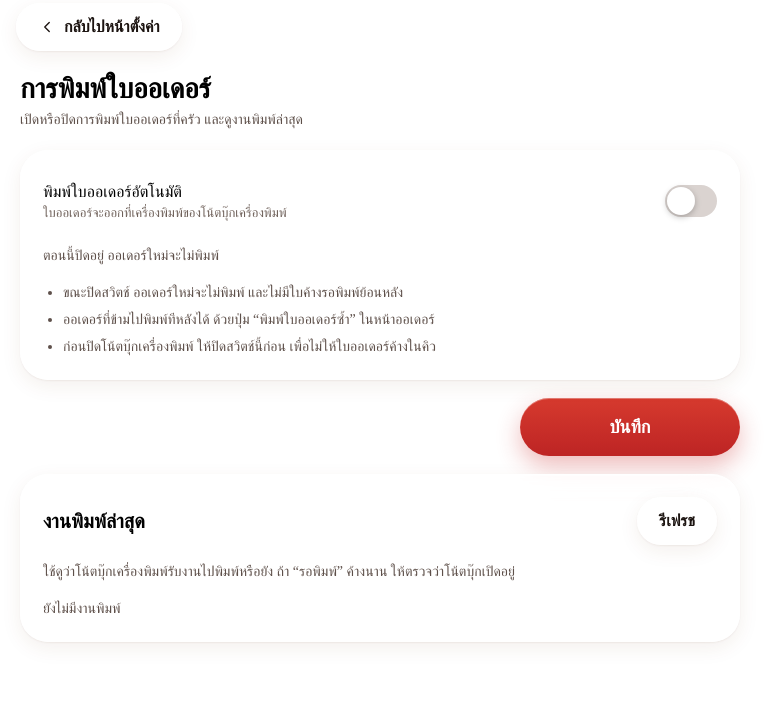
Test: the printing switch › turning it on saves with the version the screen was built on
Click the checkbox: (691, 201) [665,185,717,217]
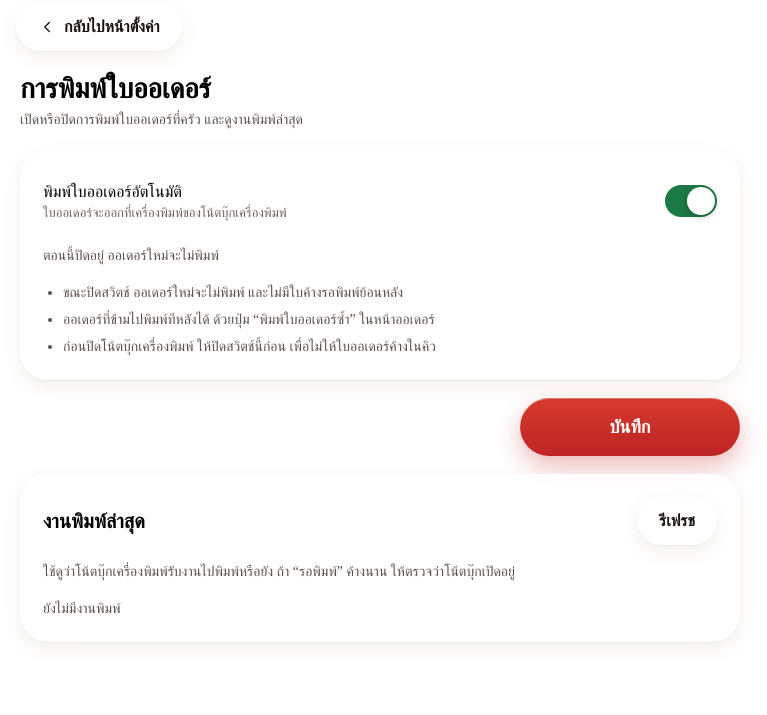
Click the button "บันทึก": (630, 427) [520,398,740,456]
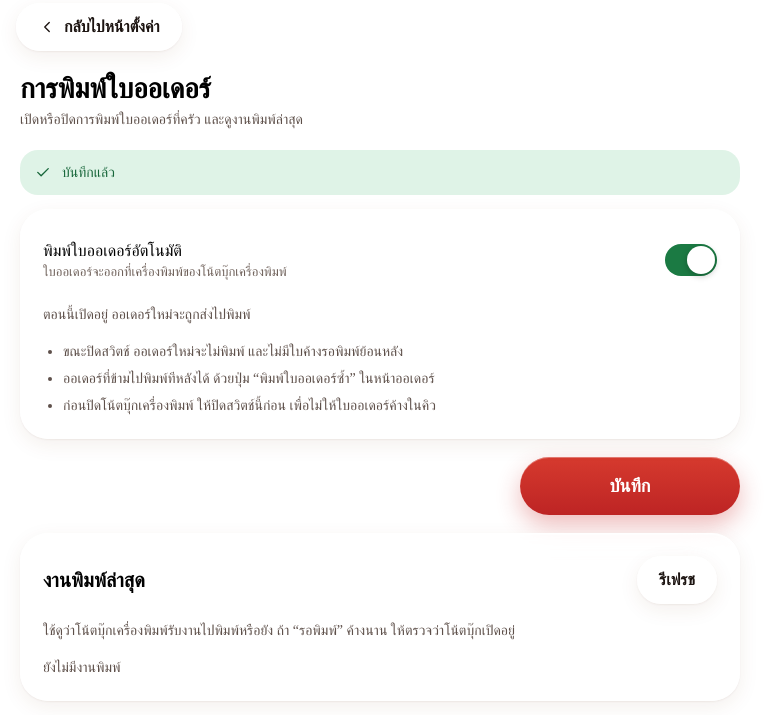
Check: the text "บันทึกแล้ว" is shown, box [62,165,115,180]
Check: the text "ตอนนี้เปิดอยู่ ออเดอร์ใหม่จะถูกส่งไปพิมพ์" is shown, box [43,307,250,322]
